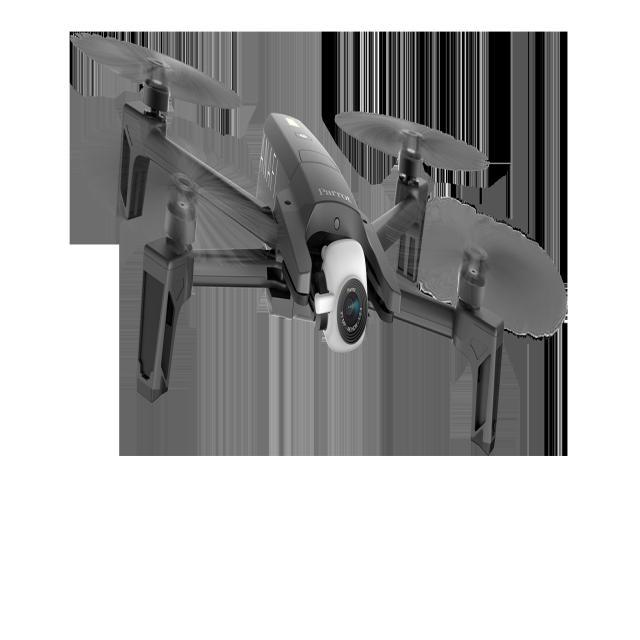drones: (58, 9, 580, 494)
